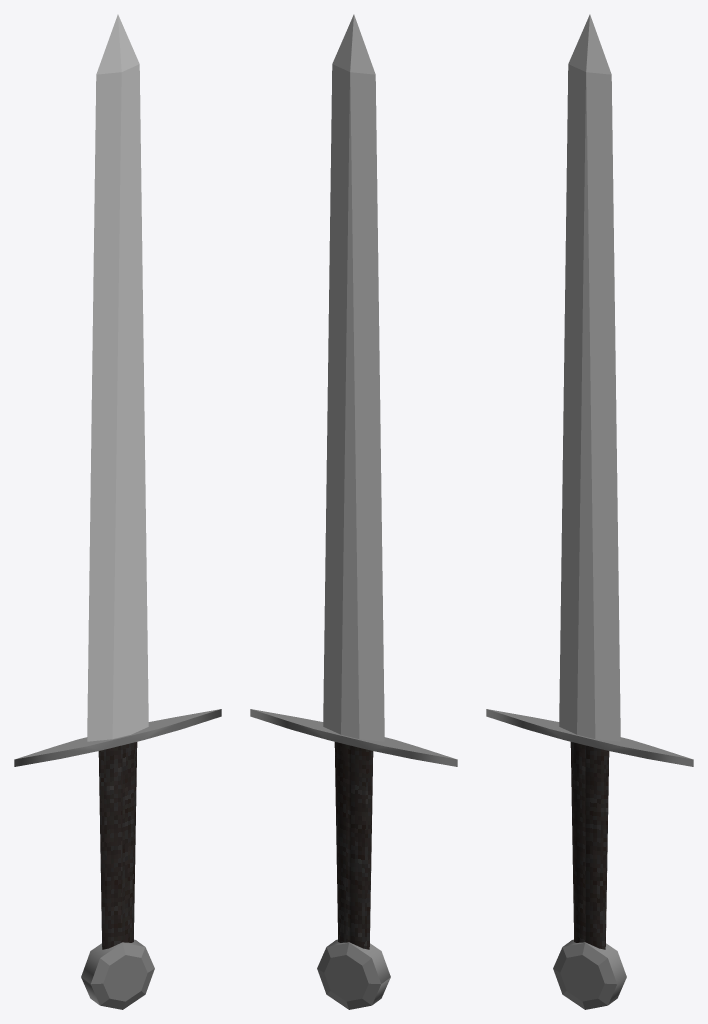
Rendered from arming_sword.glb.
3 views of the same model, side by side, from view 1: azimuth 30°, elevation 25°; view 2: azimuth 150°, elevation 25°; view 3: azimuth 330°, elevation 25° (orthographic).
Parts seen in each view (by area): view 1: Cube; view 2: Cube; view 3: Cube.
Part boxes in pixels (x1,y1,x2,y2): Cube: (14, 14, 221, 1009); Cube: (250, 14, 457, 1009); Cube: (486, 14, 693, 1009).
Size of the model in its own units: 0.2122 by 0.9716 by 0.0266.
Materials: 3 (1 with a texture image).
